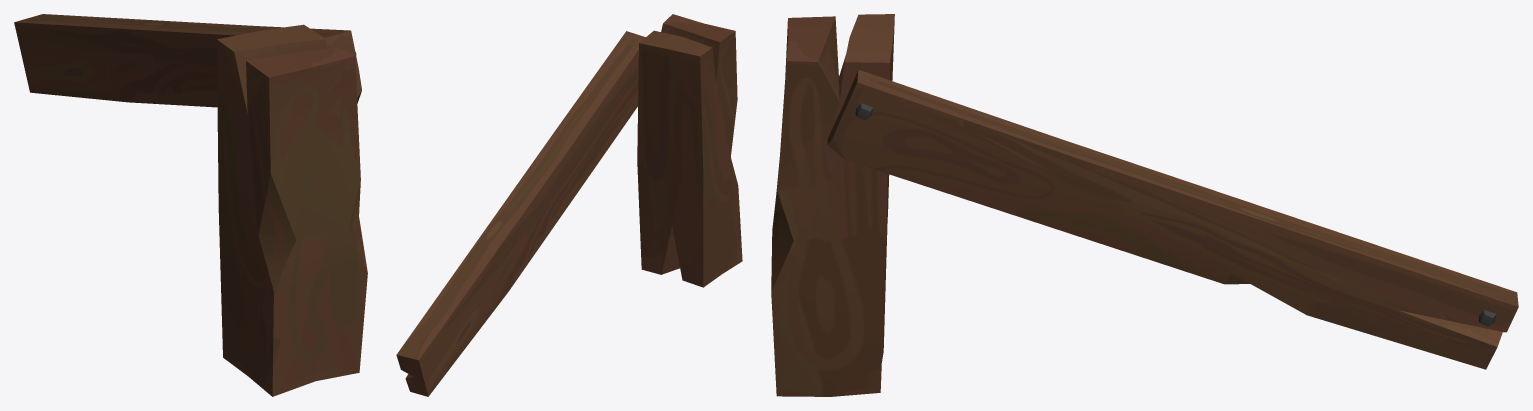
File: Fence6.fbx
3 views of the same model, side by side, from view 1: azimuth 30°, elevation 25°; view 2: azimuth 150°, elevation 25°; view 3: azimuth 270°, elevation 25° (orthographic). The views are drawn at different scales.
Parts seen in each view (by area): view 1: Słupek; view 2: Słupek; view 3: Słupek.
Part boxes in pixels (x1,y1,x2,y2): Słupek: (14,14,367,396); Słupek: (396,14,742,396); Słupek: (771,14,1518,396).
Size of the model in its own units: 37.06 by 90.05 by 180.
Materials: 1 (1 with a texture image).
